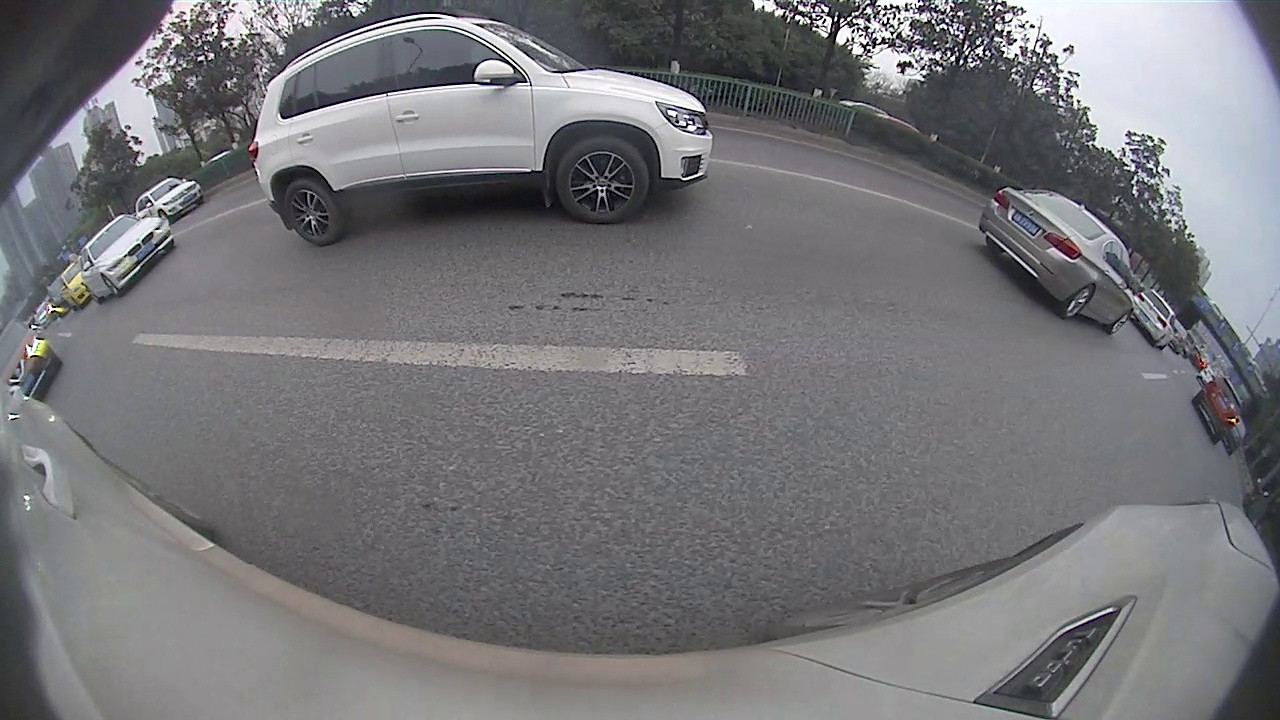car: (248, 12, 716, 249), (978, 186, 1137, 335), (77, 216, 175, 304), (1, 314, 62, 404), (1193, 376, 1243, 445), (134, 178, 206, 222), (1130, 288, 1177, 350)
front: (558, 134, 649, 226), (1107, 309, 1135, 337), (101, 273, 122, 299)
rear: (281, 180, 345, 246), (1060, 282, 1098, 320)
